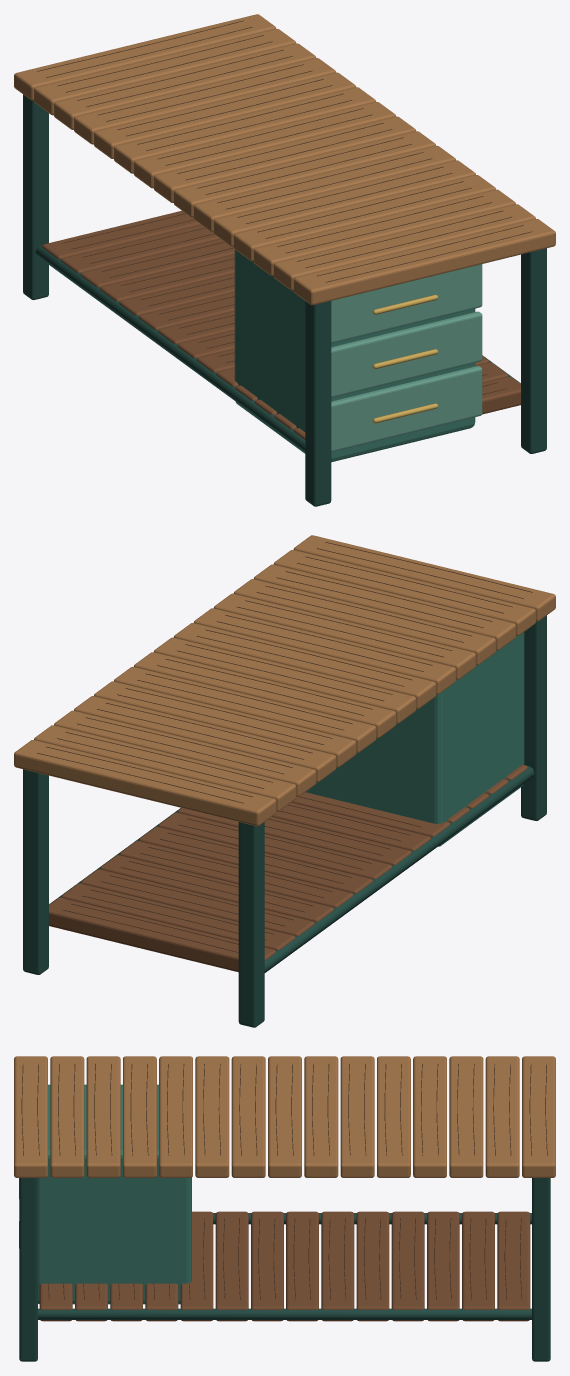
The model's file is employee_desk.glb.
3 views of the same model, one above another, from view 1: azimuth 30°, elevation 25°; view 2: azimuth 150°, elevation 25°; view 3: azimuth 270°, elevation 25° (orthographic). The views are drawn at different scales.
Visible parts, largest first — view 1: Drawer_case, Bevelled_timber.014, Drawer.001, Drawer, Drawer.002, Leg.001, Bevelled_timber.007, Bevelled_timber.010, Leg.003, Bevelled_timber.009, Bevelled_timber.011, Bevelled_timber.006 (+21 smaller); view 2: Drawer_case, Bevelled_timber, Bevelled_timber.015, Leg, Bevelled_timber.004, Bevelled_timber.007, Leg.002, Bevelled_timber.003, Bevelled_timber.005, Bevelled_timber.001, Bevelled_timber.002, Bevelled_timber.006 (+18 smaller); view 3: Drawer_case, Side_brace.001, Bevelled_timber.002, Bevelled_timber.005, Bevelled_timber.009, Bevelled_timber.012, Bevelled_timber.001, Bevelled_timber.006, Bevelled_timber.008, Bevelled_timber.013, Bevelled_timber, Bevelled_timber.003 (+21 smaller).
Part boxes in pixels (left/top/right/bottom): Drawer_case: left=234, top=249, right=475, bottom=462; Bevelled_timber.014: left=293, top=219, right=555, bottom=305; Drawer.001: left=331, top=311, right=482, bottom=397; Drawer: left=331, top=366, right=482, bottom=452; Drawer.002: left=331, top=264, right=482, bottom=343; Leg.001: left=305, top=301, right=331, bottom=506; Bevelled_timber.007: left=153, top=116, right=415, bottom=202; Bevelled_timber.010: left=213, top=160, right=475, bottom=246; Leg.003: left=521, top=248, right=546, bottom=453; Bevelled_timber.009: left=193, top=146, right=455, bottom=232; Bevelled_timber.011: left=233, top=175, right=495, bottom=261; Bevelled_timber.006: left=133, top=102, right=396, bottom=188; Drawer_case: left=305, top=632, right=524, bottom=846; Bevelled_timber: left=14, top=740, right=276, bottom=826; Bevelled_timber.015: left=49, top=897, right=275, bottom=972; Leg: left=238, top=822, right=264, bottom=1027; Bevelled_timber.004: left=94, top=681, right=356, bottom=767; Bevelled_timber.007: left=154, top=637, right=416, bottom=723; Leg.002: left=23, top=769, right=48, bottom=974; Bevelled_timber.003: left=74, top=696, right=336, bottom=782; Bevelled_timber.005: left=114, top=667, right=376, bottom=753; Bevelled_timber.001: left=34, top=725, right=296, bottom=811; Bevelled_timber.002: left=54, top=710, right=316, bottom=796; Bevelled_timber.006: left=134, top=652, right=396, bottom=738; Drawer_case: left=38, top=1084, right=191, bottom=1304; Side_brace.001: left=38, top=1308, right=531, bottom=1319; Bevelled_timber.002: left=449, top=1056, right=483, bottom=1177; Bevelled_timber.005: left=340, top=1056, right=374, bottom=1177; Bevelled_timber.009: left=195, top=1056, right=229, bottom=1177; Bevelled_timber.012: left=86, top=1056, right=120, bottom=1177; Bevelled_timber.001: left=485, top=1056, right=519, bottom=1177; Bevelled_timber.006: left=304, top=1056, right=338, bottom=1177; Bevelled_timber.008: left=231, top=1056, right=265, bottom=1177; Bevelled_timber.013: left=50, top=1056, right=84, bottom=1177; Bevelled_timber: left=522, top=1056, right=555, bottom=1177; Bevelled_timber.003: left=413, top=1056, right=446, bottom=1177.
Bounding box in the file's own units: 0.9 × 0.7745 × 1.89.
